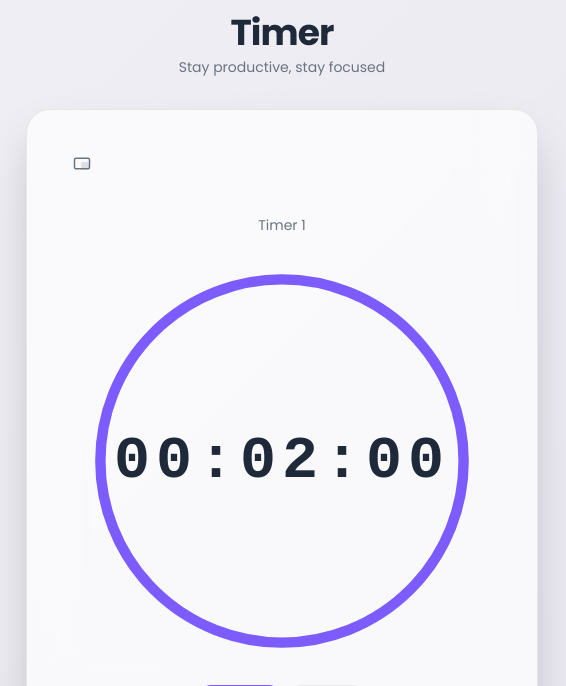
Test: Focus Timer › Timer Label › should save new label on Enter
This screenshot has width=566, height=686.
Step 1. Click the button with aria-label "click to edit label" → (282, 225), box [258,215,306,235]
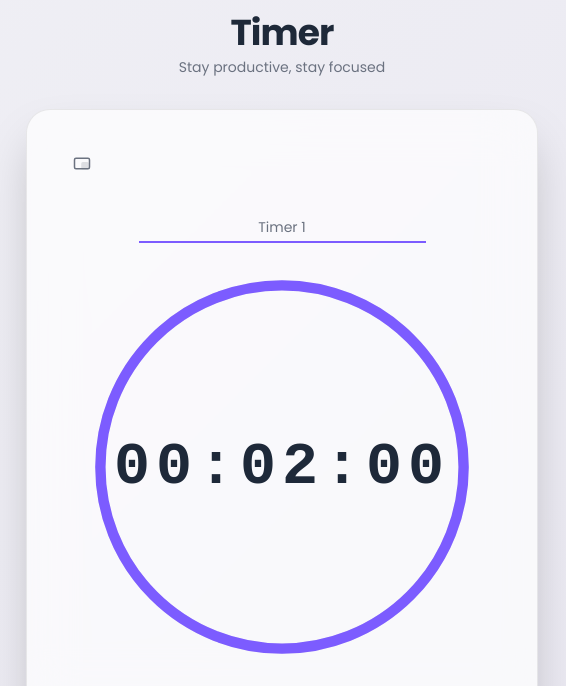
Step 2. Replace the text in the field named "edit timer label" with "work" → (282, 228), box [138,213,426,243]
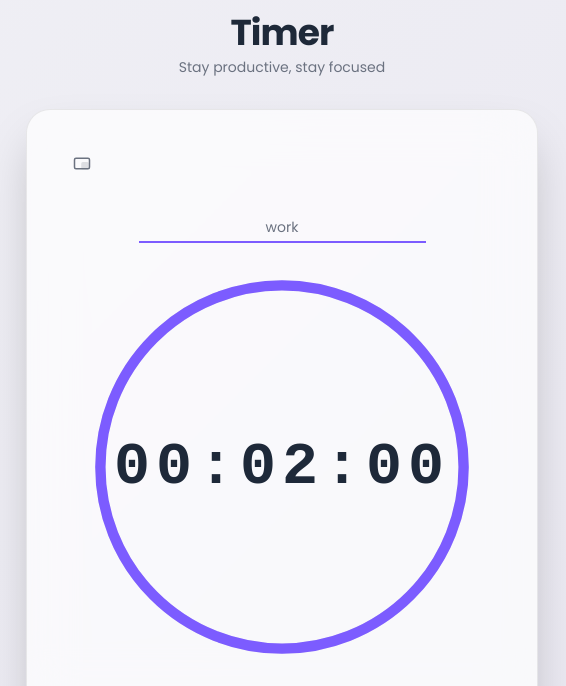
Step 3. Press Enter
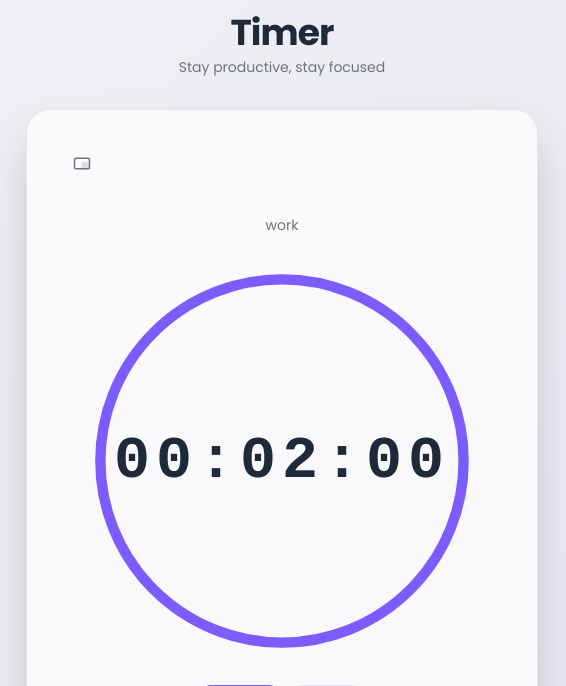
Now the button "work" is shown, box [266,215,298,235]
